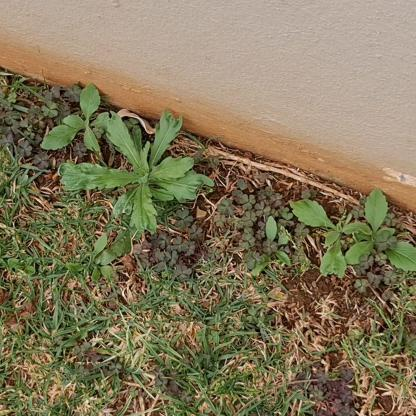Weeds: (60, 110, 212, 230), (289, 194, 372, 275), (40, 83, 123, 160), (348, 189, 415, 275)
